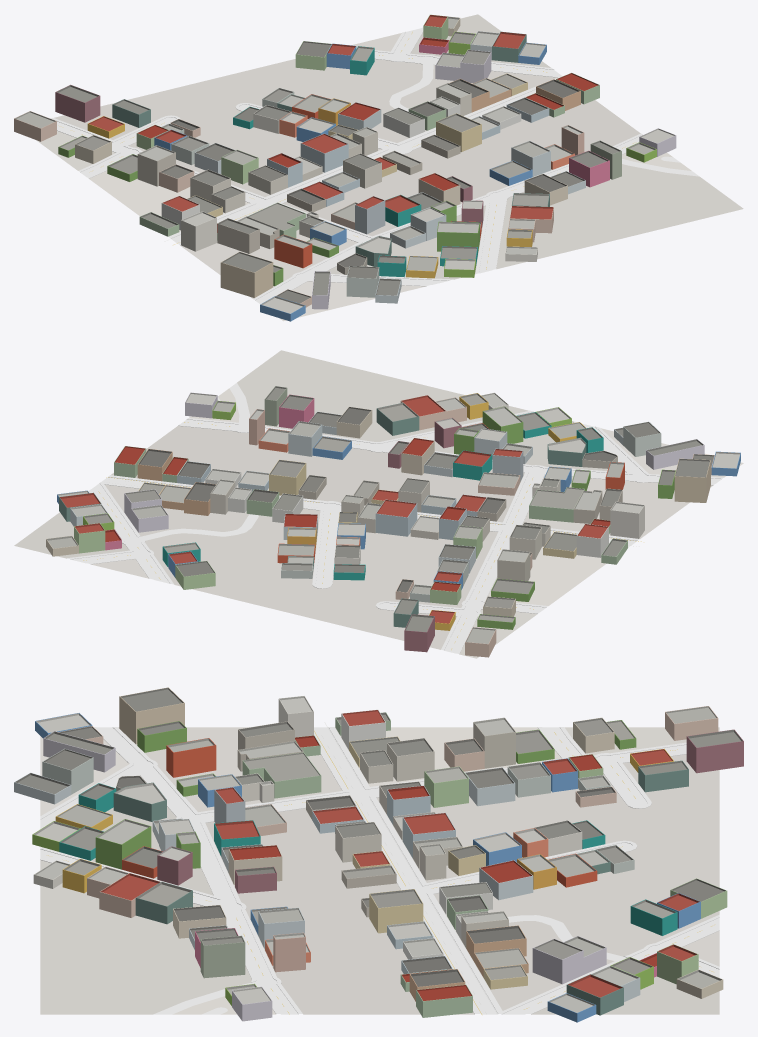
The picture shows the model from 3 angles, top to bottom: view 1: azimuth 30°, elevation 25°; view 2: azimuth 150°, elevation 25°; view 3: azimuth 270°, elevation 25°; orthographic projection. The views are drawn at different scales.
Visible parts, largest first — view 1: ground, walls, roofs, asphalt, sidewalk; view 2: ground, roofs, walls, asphalt, sidewalk; view 3: ground, walls, roofs, asphalt, sidewalk, markings.
Part boxes in pixels (x1,y1,x2,y2): ground: (36,14,743,321); walls: (14,17,676,321); roofs: (14,14,675,313); asphalt: (57,28,699,304); sidewalk: (50,27,642,300); ground: (14,350,743,658); roofs: (46,386,740,644); walls: (46,388,740,657); asphalt: (71,383,721,653); sidewalk: (67,410,723,653); ground: (40,727,719,1014); walls: (14,696,743,1022); roofs: (14,687,743,1013); asphalt: (40,727,719,1014); sidewalk: (40,727,719,1014); markings: (48,722,712,1014).
Size of what is drawn, in the model's own units: 264 by 13.21 by 269.
